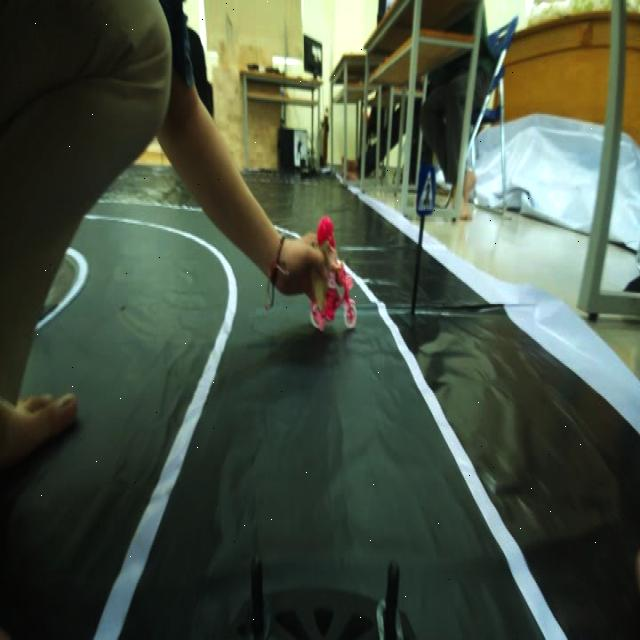crosswalk: (412, 159, 441, 218)
pedestrian: (304, 216, 357, 323)
